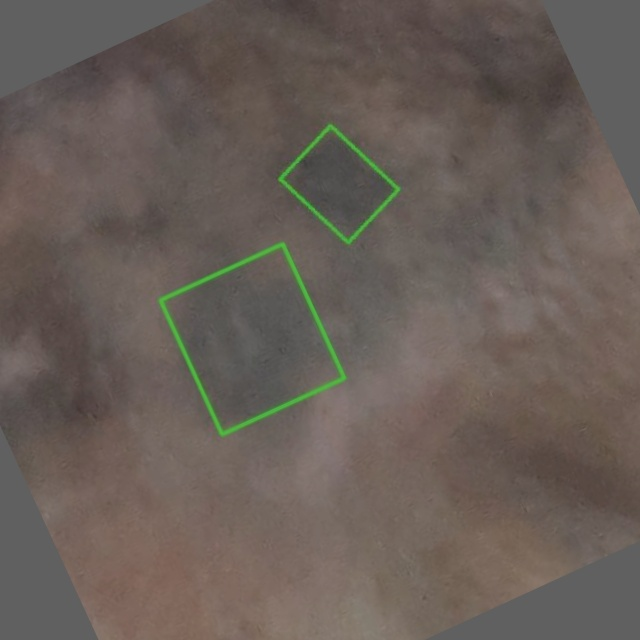Tinea Corporis: (160, 243, 344, 434), (280, 126, 397, 242)
